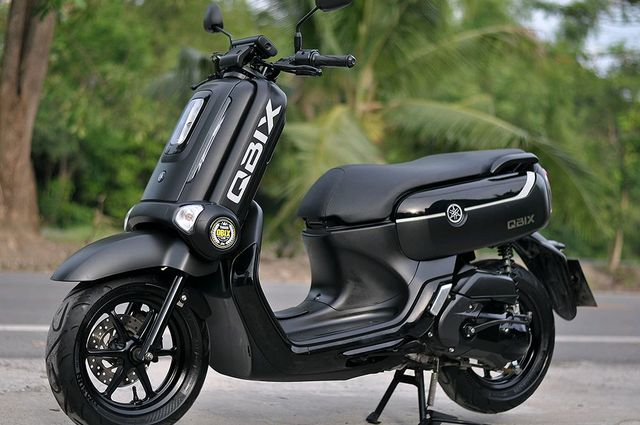motorcycle: (45, 3, 598, 425)
